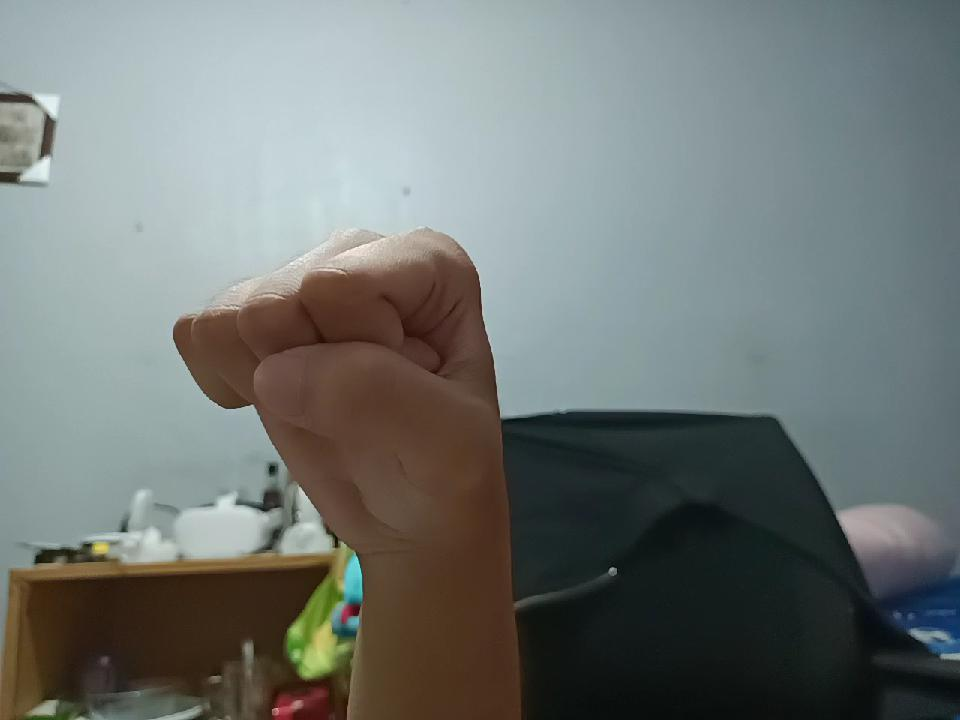rock: (160, 219, 492, 586)
